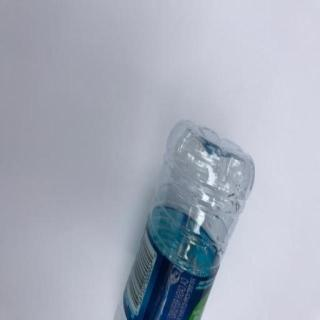Anorganik: (106, 116, 262, 320)
